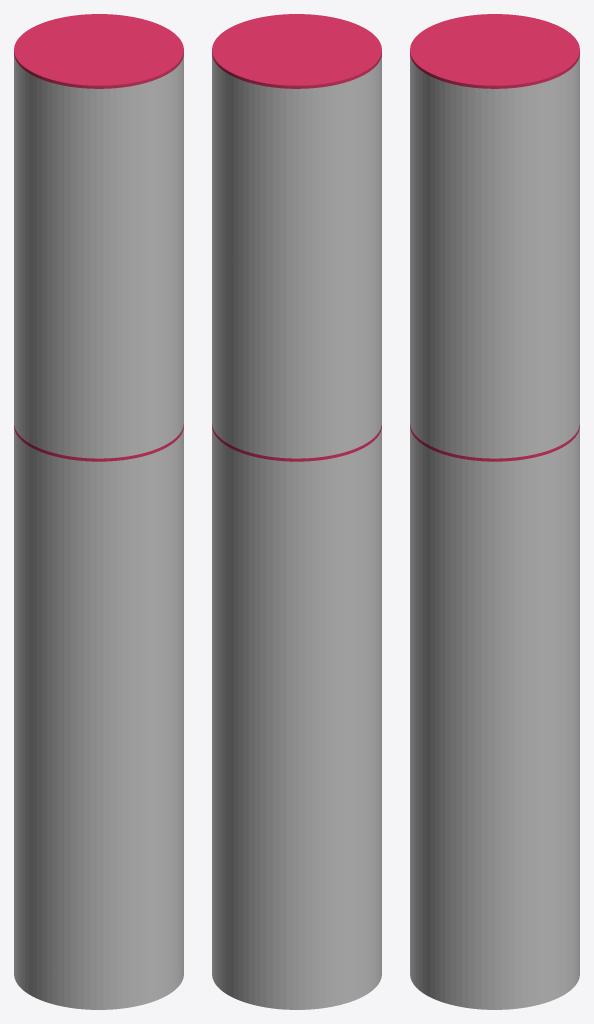
File: woodMaterial.fbx
3 renders of one model, left to right at view 1: azimuth 30°, elevation 25°; view 2: azimuth 150°, elevation 25°; view 3: azimuth 270°, elevation 25°, orthographic.
Visible parts, largest first — view 1: Cylinder.299, Cylinder.125, Cylinder.187, Cylinder.249, Cylinder.001, Cylinder.063, Cylinder.003, Cylinder.065, Cylinder.026, Cylinder.040, Cylinder.100, Cylinder.102 (+288 smaller); view 2: Cylinder.299, Cylinder.125, Cylinder.187, Cylinder.249, Cylinder.001, Cylinder.063, Cylinder.003, Cylinder.065, Cylinder.026, Cylinder.040, Cylinder.100, Cylinder.102 (+288 smaller); view 3: Cylinder.299, Cylinder.026, Cylinder.088, Cylinder.150, Cylinder.212, Cylinder.237, Cylinder.001, Cylinder.175, Cylinder.274, Cylinder.038, Cylinder.063, Cylinder.113 (+288 smaller).
Part boxes in pixels (bbox=[...]): Cylinder.299: bbox=[14, 14, 183, 88]; Cylinder.125: bbox=[14, 588, 183, 624]; Cylinder.187: bbox=[14, 397, 183, 433]; Cylinder.249: bbox=[14, 206, 183, 242]; Cylinder.001: bbox=[14, 970, 183, 1006]; Cylinder.063: bbox=[14, 779, 183, 815]; Cylinder.003: bbox=[14, 963, 183, 1000]; Cylinder.065: bbox=[14, 772, 183, 809]; Cylinder.026: bbox=[14, 893, 183, 929]; Cylinder.040: bbox=[14, 849, 183, 886]; Cylinder.100: bbox=[14, 665, 183, 701]; Cylinder.102: bbox=[14, 658, 183, 695]; Cylinder.299: bbox=[212, 14, 381, 88]; Cylinder.125: bbox=[212, 588, 381, 624]; Cylinder.187: bbox=[212, 397, 381, 433]; Cylinder.249: bbox=[212, 206, 381, 242]; Cylinder.001: bbox=[212, 970, 381, 1006]; Cylinder.063: bbox=[212, 779, 381, 815]; Cylinder.003: bbox=[212, 963, 381, 1000]; Cylinder.065: bbox=[212, 772, 381, 809]; Cylinder.026: bbox=[212, 893, 381, 929]; Cylinder.040: bbox=[212, 849, 381, 886]; Cylinder.100: bbox=[212, 665, 381, 701]; Cylinder.102: bbox=[212, 658, 381, 695]; Cylinder.299: bbox=[410, 14, 579, 88]; Cylinder.026: bbox=[410, 892, 579, 929]; Cylinder.088: bbox=[410, 701, 579, 738]; Cylinder.150: bbox=[410, 510, 579, 547]; Cylinder.212: bbox=[410, 319, 579, 356]; Cylinder.237: bbox=[410, 242, 579, 279]; Cylinder.001: bbox=[410, 969, 579, 1006]; Cylinder.175: bbox=[410, 433, 579, 470]; Cylinder.274: bbox=[410, 128, 579, 165]; Cylinder.038: bbox=[410, 855, 579, 892]; Cylinder.063: bbox=[410, 778, 579, 815]; Cylinder.113: bbox=[410, 624, 579, 661].
Bounding box in the file's own units: 200 × 1200 × 200.
